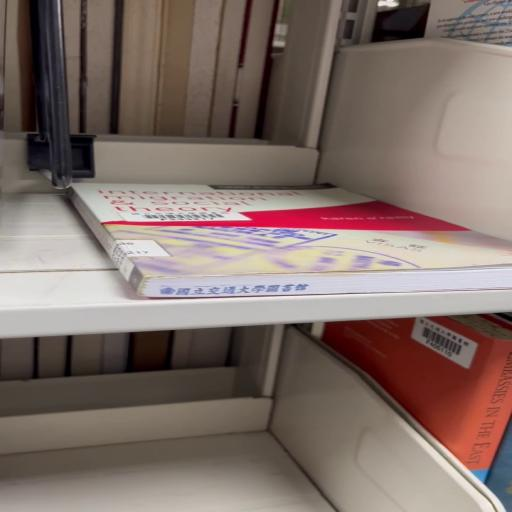flat: (69, 183, 511, 298)
